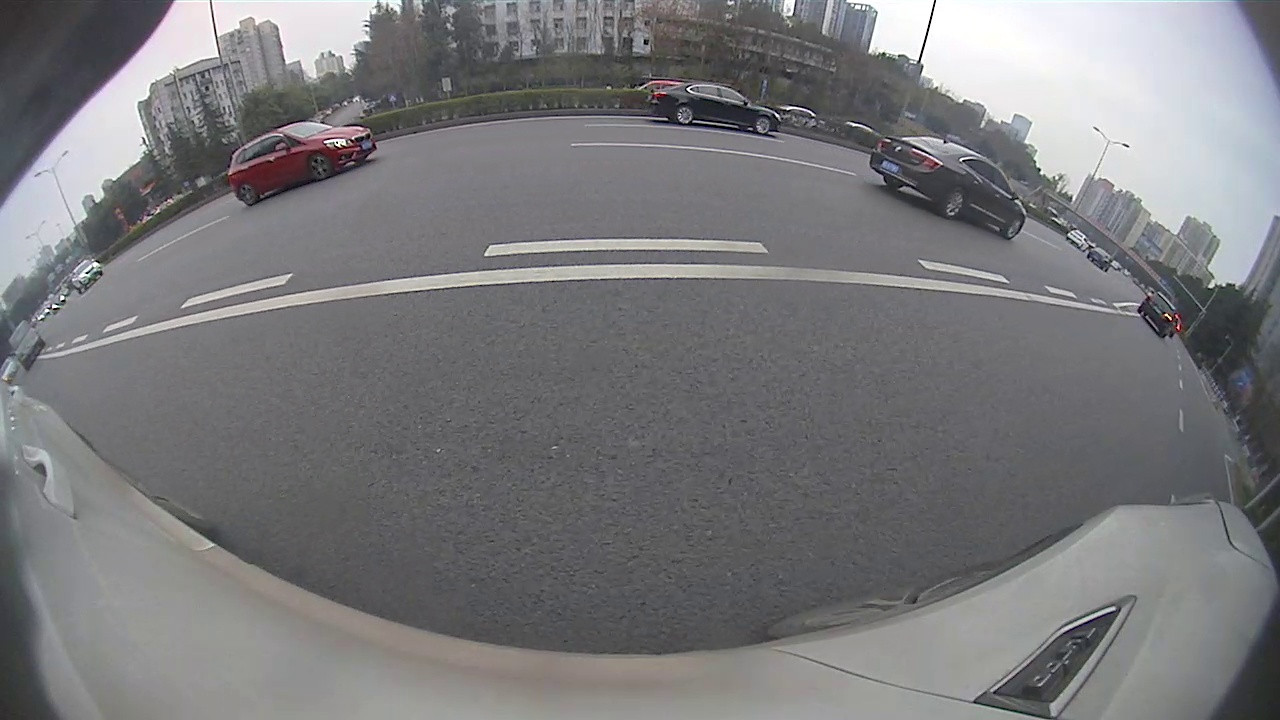car: (870, 134, 1024, 239), (226, 123, 375, 205), (649, 81, 781, 134), (1139, 292, 1182, 337), (8, 322, 46, 369), (70, 259, 105, 294), (1088, 247, 1116, 272)
front: (307, 152, 334, 182), (999, 214, 1025, 239), (753, 115, 773, 134)
rear: (940, 188, 967, 219), (236, 182, 260, 207), (674, 105, 696, 128)
